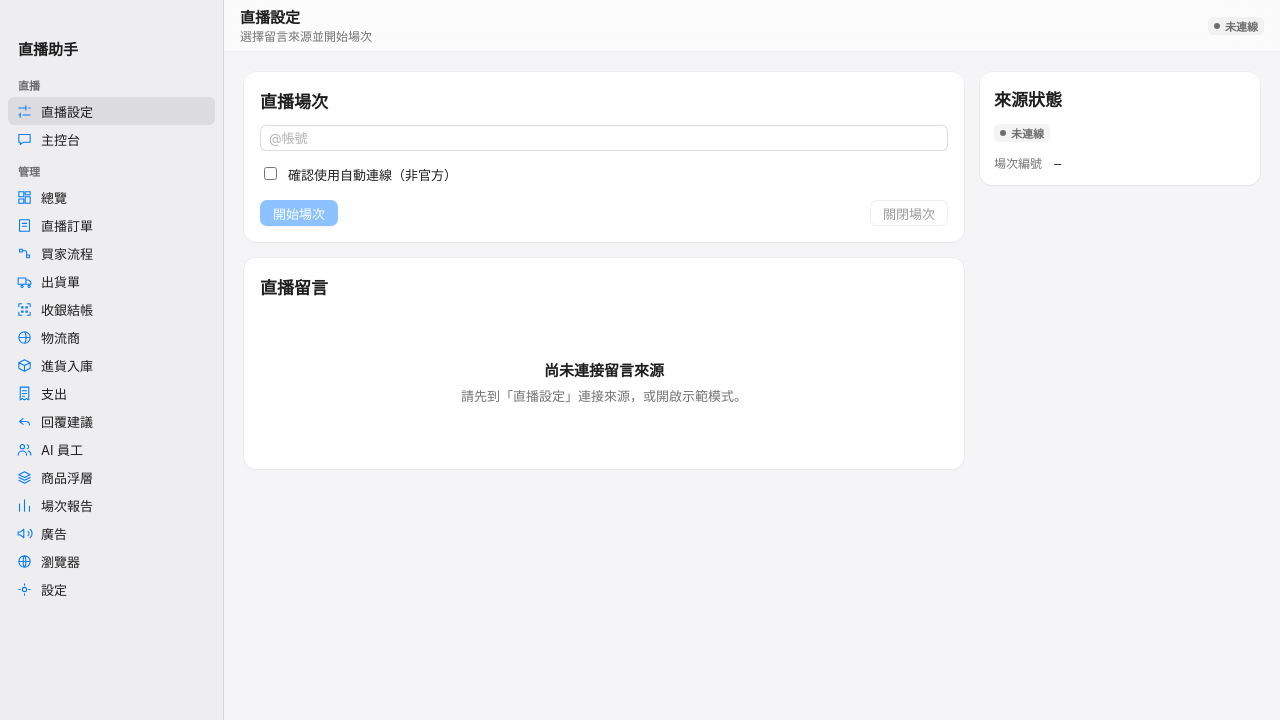
Live Assistant UI › rejects a missing TikTok ID with a readable message
Click the checkbox labelled "確認使用自動連線（非官方）".
click(270, 174)  # box [264,167,277,180]
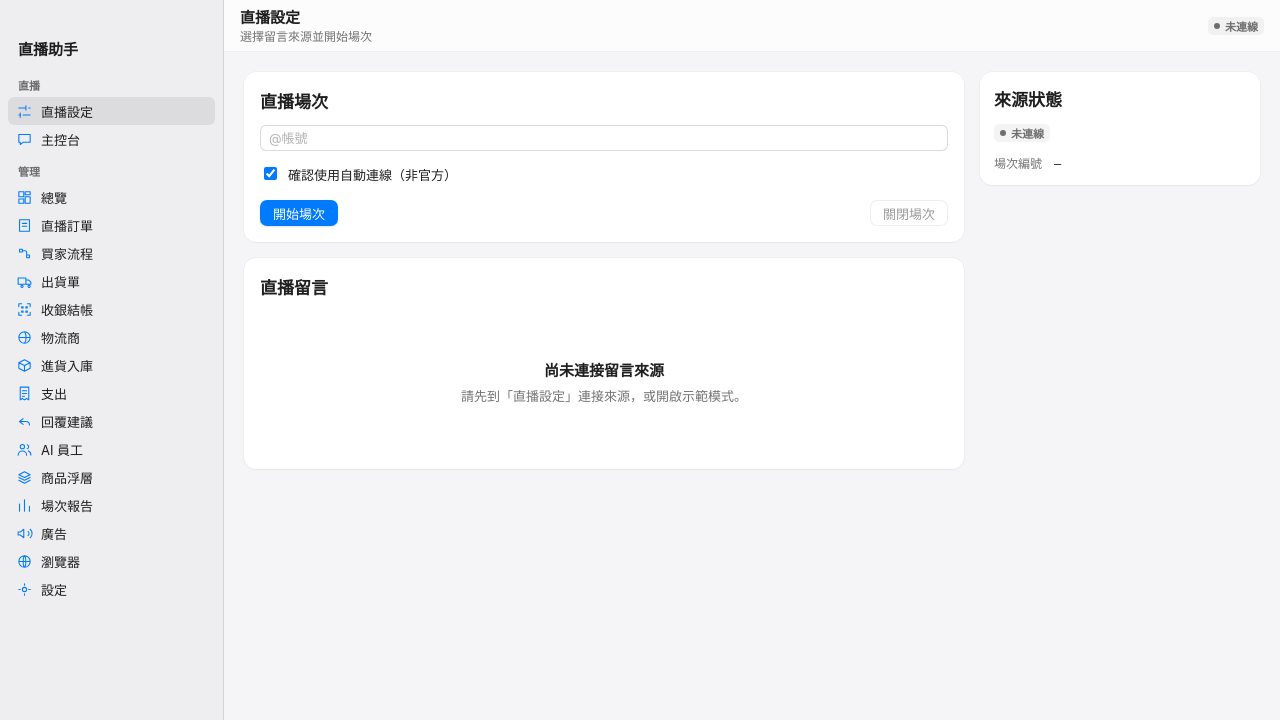
Click the button "開始場次".
click(299, 213)  # box [260,200,338,226]
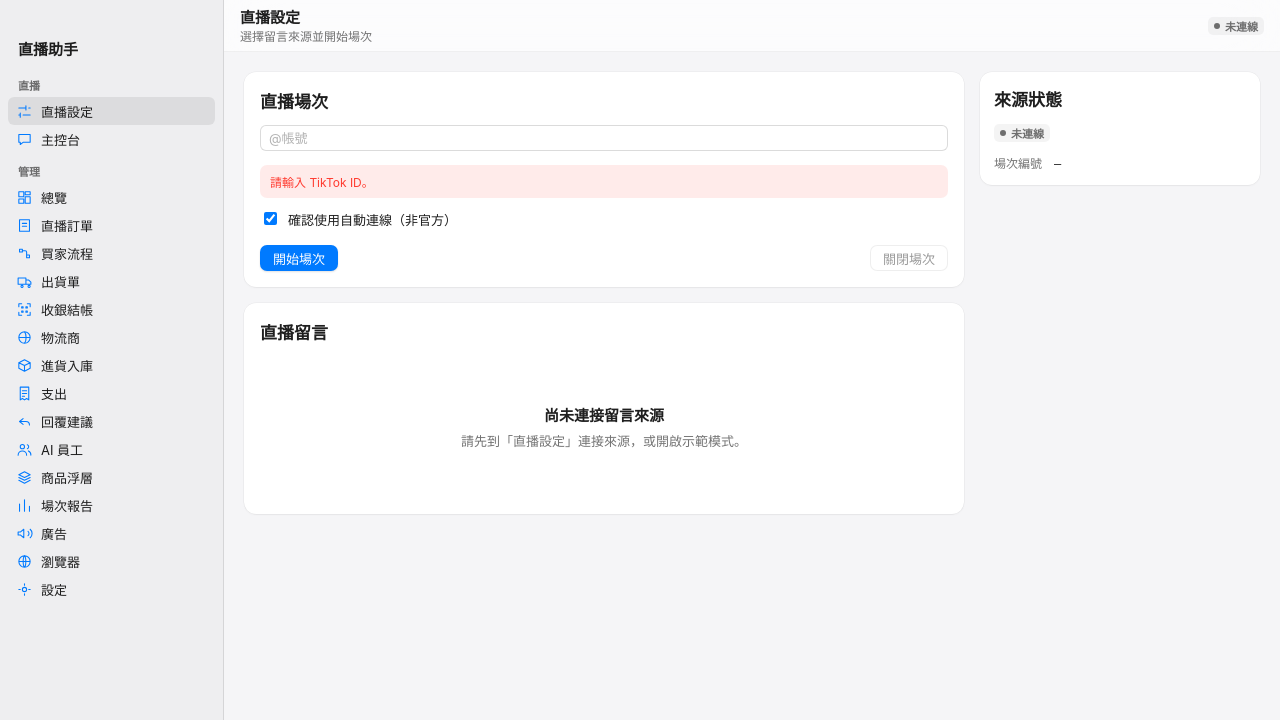
Expected: the message reads "請輸入 TikTok ID。", [270,175,374,190]
